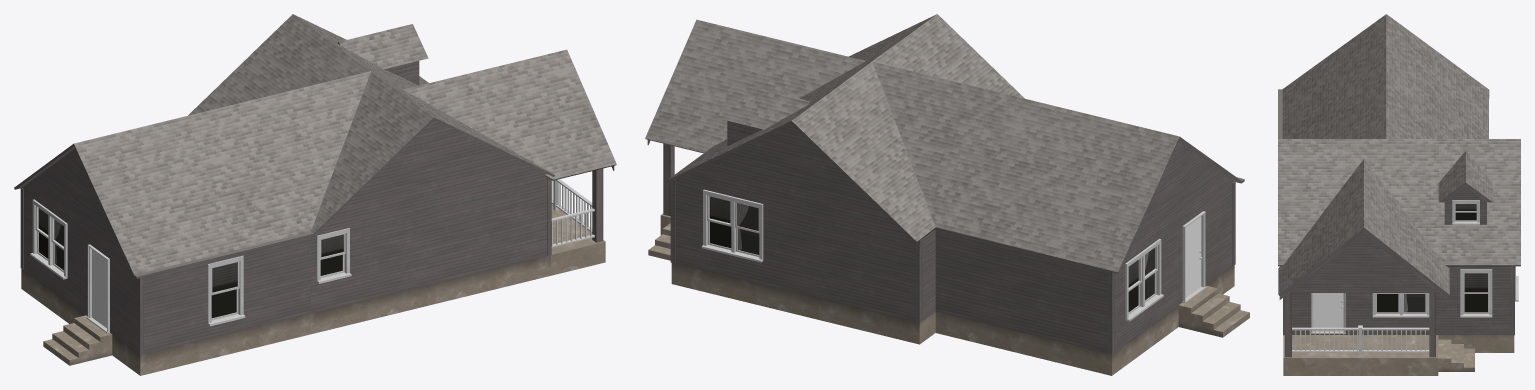
File: house-2.glb
The picture shows the model from 3 angles, left to right: view 1: azimuth 30°, elevation 25°; view 2: azimuth 150°, elevation 25°; view 3: azimuth 270°, elevation 25°; orthographic projection. The views are drawn at different scales.
Visible parts, largest first — view 1: House_2_col_V1; view 2: House_2_col_V1; view 3: House_2_col_V1.
Boxes of the visible parts, x1,y1,x2,y2 form: House_2_col_V1: [14, 14, 616, 375]; House_2_col_V1: [645, 14, 1249, 375]; House_2_col_V1: [1278, 14, 1520, 375].
Size of the model in its own units: 15.56 by 5.48 by 7.36.
1 material, 1 textured.
